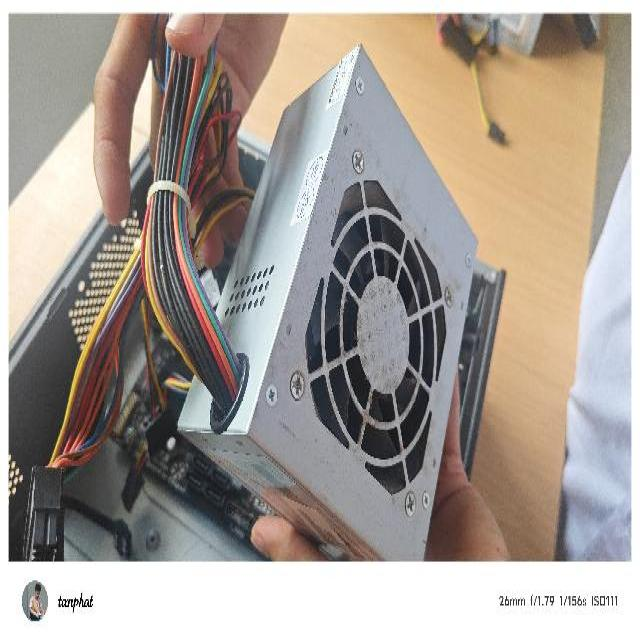PSU: (173, 38, 478, 560)
